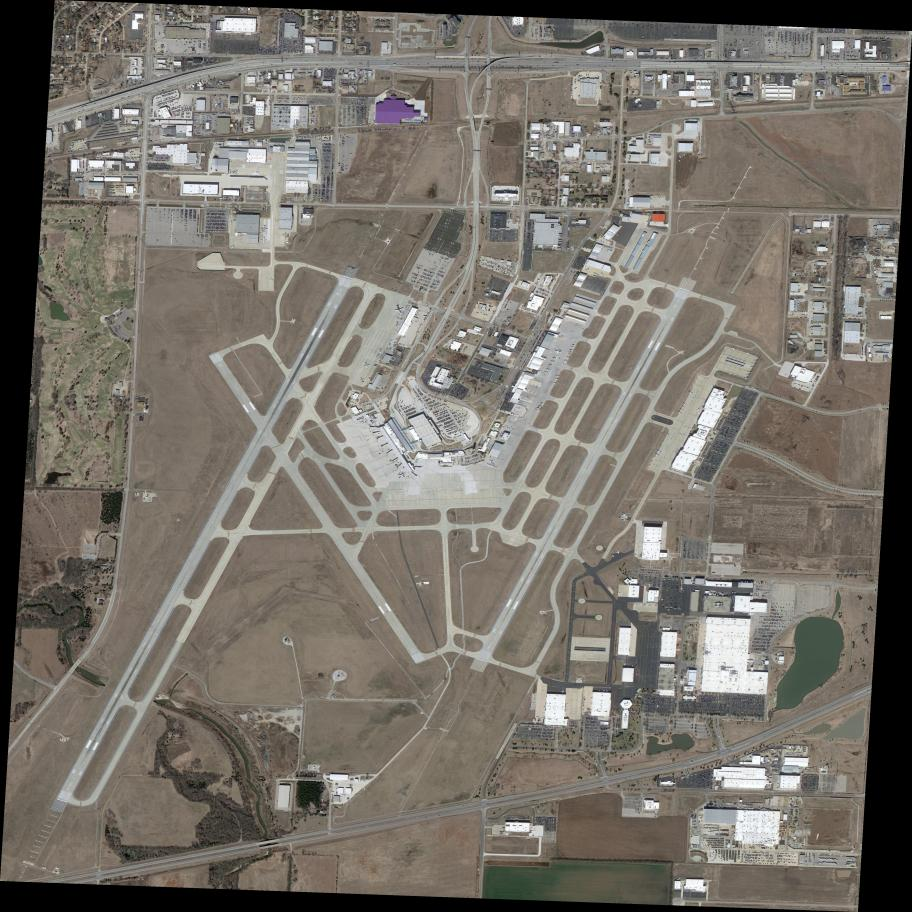plane: (393, 304, 405, 316), (231, 167, 241, 177), (396, 472, 406, 481), (553, 347, 563, 355), (260, 236, 268, 244), (260, 225, 269, 232), (363, 362, 372, 369), (621, 516, 628, 523), (621, 511, 628, 518), (743, 375, 750, 381), (229, 244, 236, 250), (730, 346, 737, 352), (695, 407, 701, 413), (610, 553, 616, 559), (654, 452, 660, 458), (656, 448, 662, 454), (687, 390, 694, 395), (606, 248, 613, 253), (584, 267, 590, 272), (727, 370, 733, 375), (731, 372, 737, 377), (677, 410, 683, 415), (359, 377, 365, 382), (618, 515, 624, 520), (682, 433, 688, 438), (753, 358, 759, 363), (318, 197, 324, 202), (745, 351, 751, 356), (573, 323, 579, 328), (552, 355, 557, 361), (600, 272, 605, 277), (746, 372, 751, 377), (255, 170, 260, 175), (755, 355, 760, 360), (535, 384, 540, 389), (489, 458, 494, 463), (490, 463, 495, 468), (554, 376, 559, 381), (544, 370, 549, 375), (735, 364, 740, 369), (731, 356, 736, 361), (742, 359, 747, 364), (546, 367, 551, 372), (566, 355, 571, 360), (550, 359, 555, 364), (692, 396, 698, 400), (615, 550, 621, 554), (552, 381, 558, 385), (727, 355, 733, 359), (784, 373, 789, 377), (682, 402, 687, 406), (677, 123, 681, 128), (615, 233, 620, 237), (593, 272, 598, 276), (712, 384, 717, 388), (747, 370, 752, 374), (750, 365, 755, 369), (679, 407, 684, 411), (269, 278, 274, 282), (683, 425, 688, 429), (752, 362, 757, 366), (506, 426, 511, 430), (511, 428, 516, 432), (508, 427, 513, 431), (504, 425, 509, 429), (556, 373, 560, 378), (501, 458, 505, 463), (496, 457, 501, 461), (486, 463, 491, 467), (493, 465, 498, 469), (739, 358, 744, 362), (724, 361, 729, 365), (728, 362, 733, 366), (731, 363, 736, 367), (735, 357, 740, 361), (558, 335, 563, 339), (563, 359, 568, 363), (548, 363, 553, 367), (661, 196, 665, 200), (736, 374, 740, 378), (740, 375, 744, 379), (688, 426, 692, 430), (666, 432, 670, 436), (679, 432, 683, 436), (525, 395, 529, 399), (534, 407, 538, 411), (502, 425, 506, 429), (491, 462, 495, 466), (722, 350, 726, 354), (739, 365, 743, 369), (570, 330, 574, 334), (568, 352, 572, 356), (661, 205, 666, 208), (528, 397, 533, 400), (681, 405, 685, 408), (652, 196, 656, 199), (532, 392, 536, 395), (268, 158, 272, 161), (617, 591, 620, 594), (532, 384, 535, 387), (534, 378, 537, 381), (657, 197, 661, 199), (528, 391, 532, 393), (677, 620, 680, 622)
